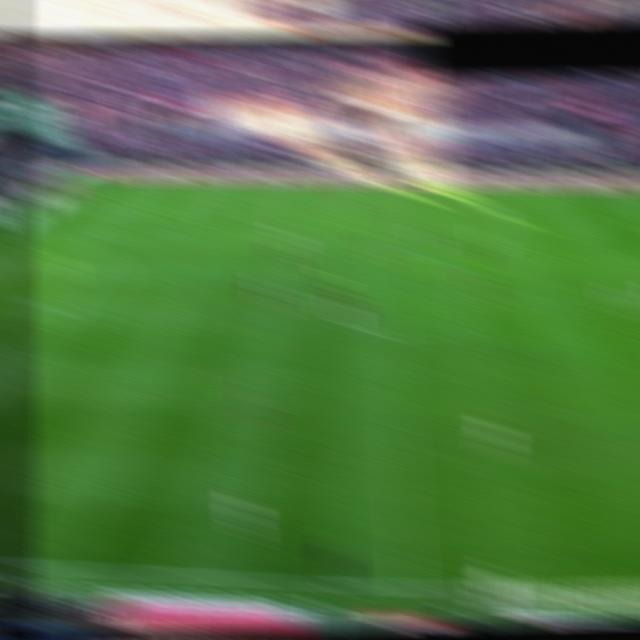bigarea_top_inner: (125, 202, 154, 219), (616, 217, 640, 231)
bigarea_top_outter: (23, 202, 51, 220)
bottom_arc_area_intersection: (32, 301, 65, 320)
corner: (63, 173, 93, 190)
halfcircle_bottom: (377, 323, 405, 342)
halfcircle_top: (371, 240, 400, 257)
midline_bottom_intersection: (391, 576, 424, 599)
midline_top_intersection: (366, 178, 395, 195)
smallarea_top_inner: (16, 235, 45, 251)
top_arc_area_intersection: (88, 239, 121, 259)
